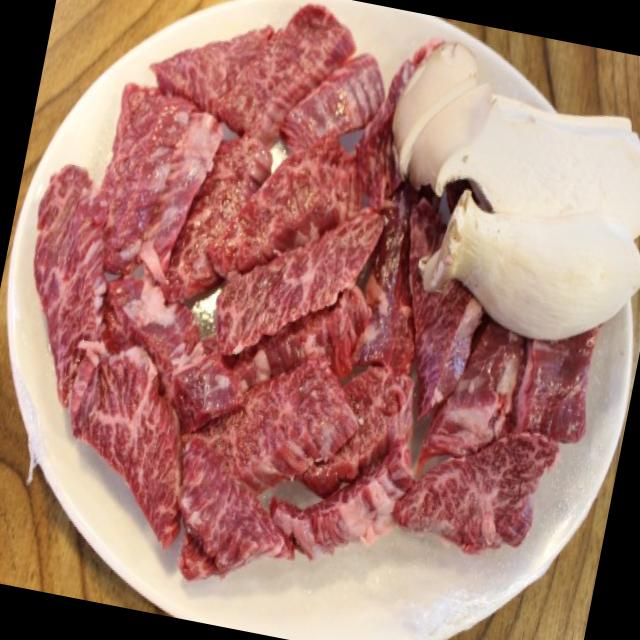beef: (16, 0, 446, 569), (192, 157, 350, 358)
